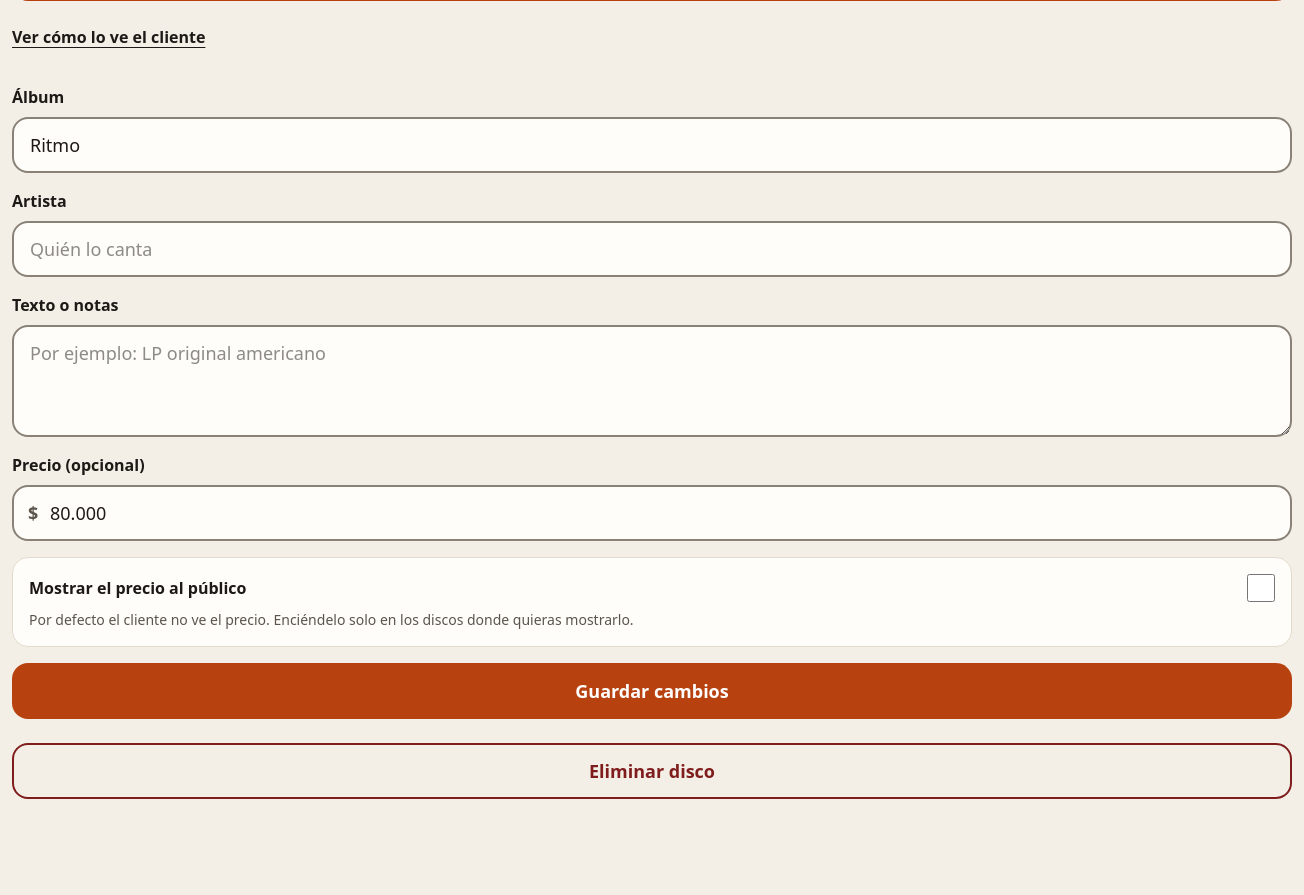
RecordDetail › showing the price to customers › goes back to the old choice and explains when it could not be saved
The image size is (1304, 895).
(page scrolled)
Click the switch labelled "Mostrar el precio al público" at [1261, 588], box top-left (1247, 574), bottom-right (1275, 602)
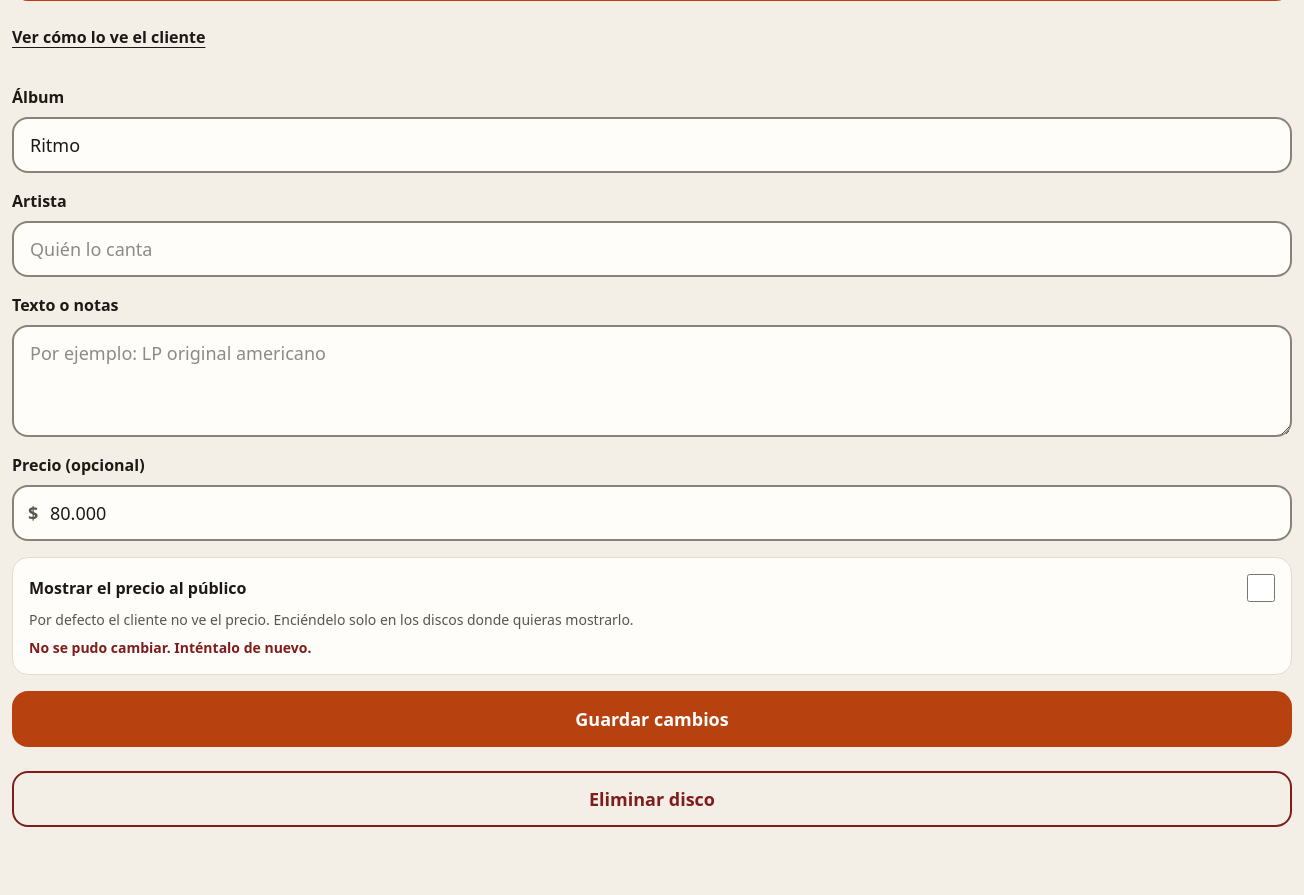
expect the text "No se pudo cambiar. Inténtalo de nuevo." is shown: met, box top-left (29, 638), bottom-right (312, 657)
